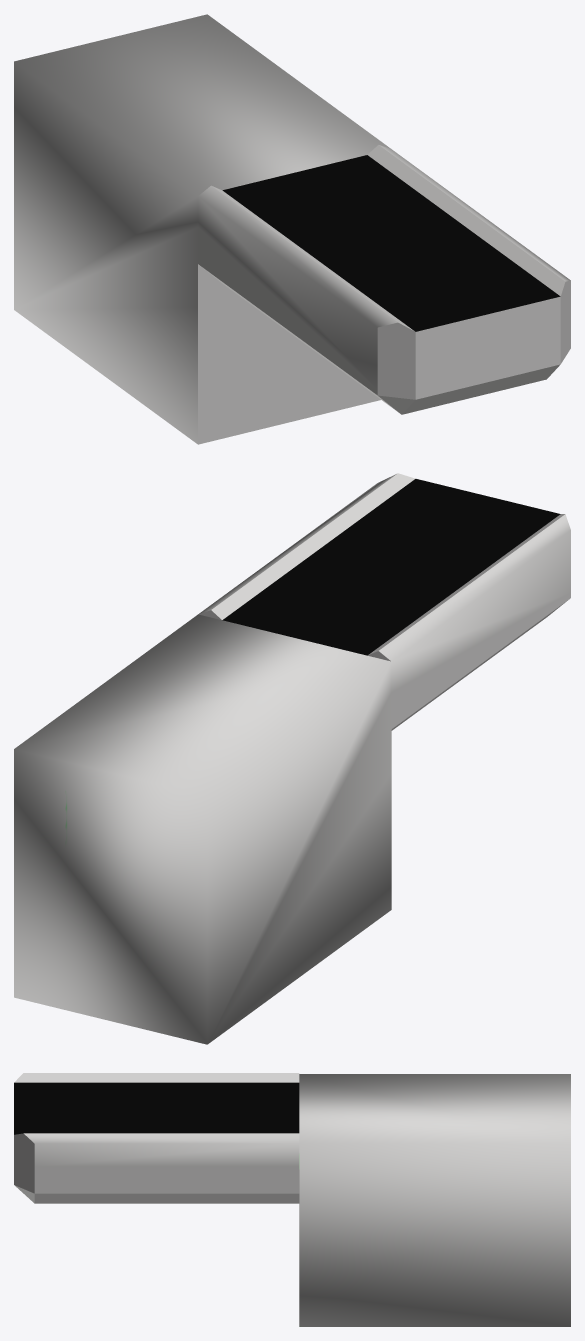
The model's file is StaffServe.fbx.
3 views of the same model, one above another, from view 1: azimuth 30°, elevation 25°; view 2: azimuth 150°, elevation 25°; view 3: azimuth 270°, elevation 25° (orthographic). The views are drawn at different scales.
Parts seen in each view (by area): view 1: StaffServe1; view 2: StaffServe1; view 3: StaffServe1.
Part boxes in pixels (x1=…): StaffServe1: x1=14, y1=14, x2=570, y2=444; StaffServe1: x1=14, y1=473, x2=570, y2=1044; StaffServe1: x1=14, y1=1073, x2=570, y2=1326.
Bounding box in the file's own units: 95.43 × 121 × 323.
